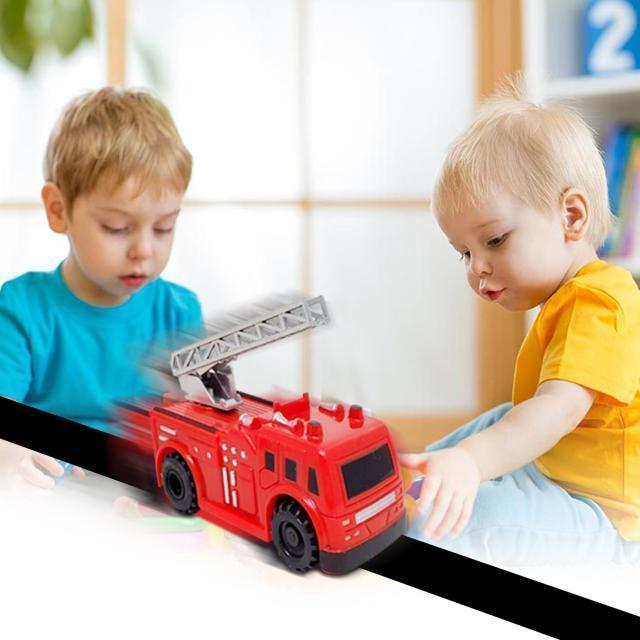hard-toy: (120, 394, 405, 574)
